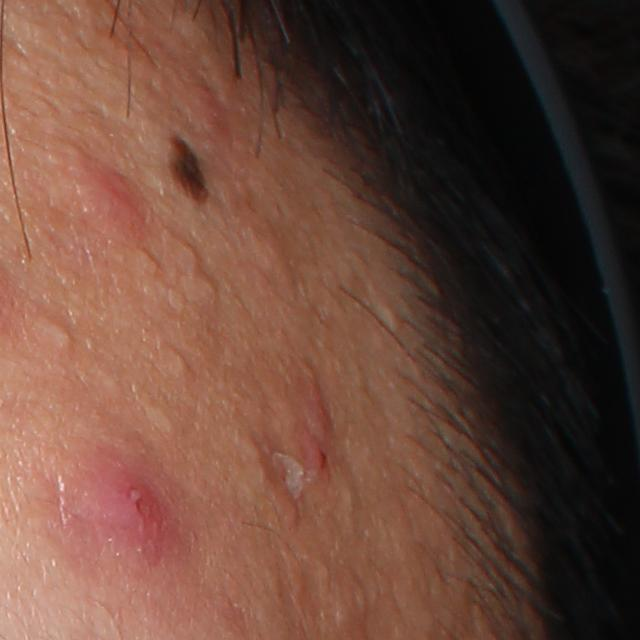comedo: (43, 322, 75, 360), (150, 407, 184, 441)
nevus: (169, 132, 210, 201)
papule: (85, 447, 181, 564), (68, 151, 150, 236)
